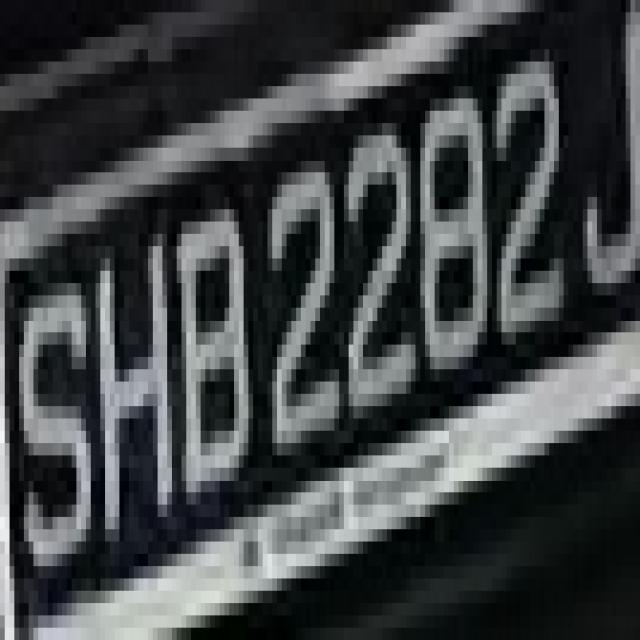2: (325, 86, 425, 431), (482, 12, 568, 394), (253, 160, 344, 455)
8: (401, 49, 492, 357)
B: (163, 173, 253, 542)
H: (86, 172, 177, 530)
J: (573, 24, 640, 296)
S: (10, 234, 96, 578)
